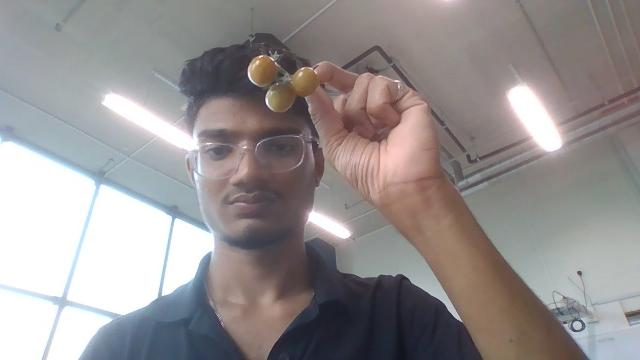Fully Grown: (265, 81, 297, 114), (246, 54, 278, 87), (289, 66, 320, 98)
